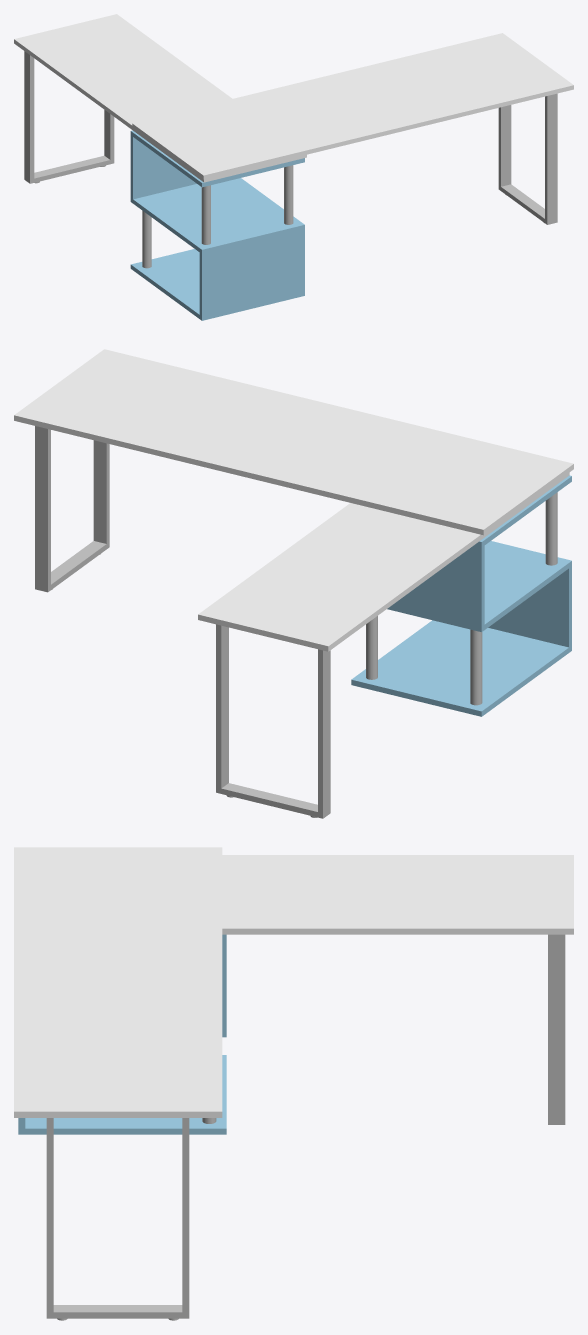
Rendered from Desk.fbx.
3 renders of one model, top to bottom at view 1: azimuth 30°, elevation 25°; view 2: azimuth 150°, elevation 25°; view 3: azimuth 270°, elevation 25°, orthographic. The views are drawn at different scales.
Parts seen in each view (by area): view 1: TableBig, CornerBottom, TableSmall, Legs, CornerTop, Legs.001, Support.002, Support.003, Support; view 2: TableBig, TableSmall, CornerBottom, Legs.001, Legs, CornerTop, Support, Support.003, Support.001; view 3: TableBig, TableSmall, Legs, CornerBottom, Legs.001.
Boxes of the visible parts, x1,y1,x2,y2 form: TableBig: [132, 33, 573, 179]; CornerBottom: [130, 178, 304, 320]; TableSmall: [14, 14, 306, 182]; Legs: [498, 93, 557, 224]; CornerTop: [130, 130, 304, 199]; Legs.001: [24, 51, 114, 183]; Support.002: [284, 165, 293, 224]; Support.003: [201, 185, 210, 244]; Support: [142, 211, 151, 268]; TableBig: [14, 349, 573, 535]; TableSmall: [198, 472, 569, 651]; CornerBottom: [351, 541, 571, 716]; Legs.001: [216, 624, 330, 818]; Legs: [35, 426, 109, 592]; CornerTop: [393, 475, 571, 626]; Support: [470, 629, 482, 705]; Support.003: [545, 492, 557, 565]; Support.001: [366, 616, 377, 679]; TableBig: [14, 847, 222, 1117]; TableSmall: [222, 855, 573, 934]; Legs: [46, 1118, 189, 1318]; CornerBottom: [18, 1031, 226, 1134]; Legs.001: [548, 934, 565, 1124].
Size of the model in its own units: 180 by 68 by 161.
